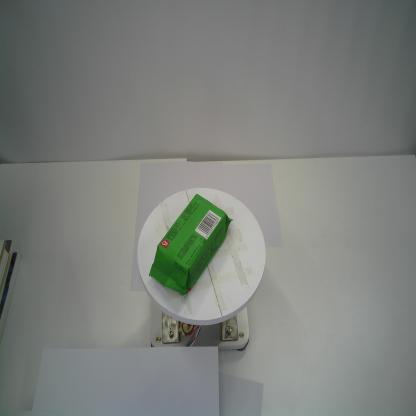Dessert: (149, 193, 234, 296)
